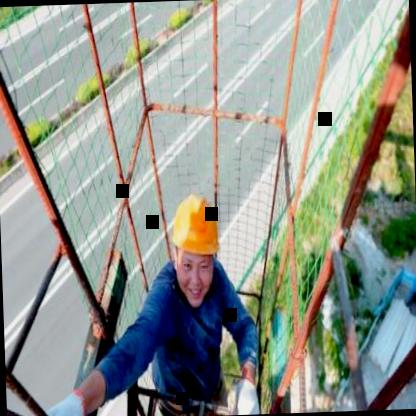helmet: (163, 183, 226, 303)
